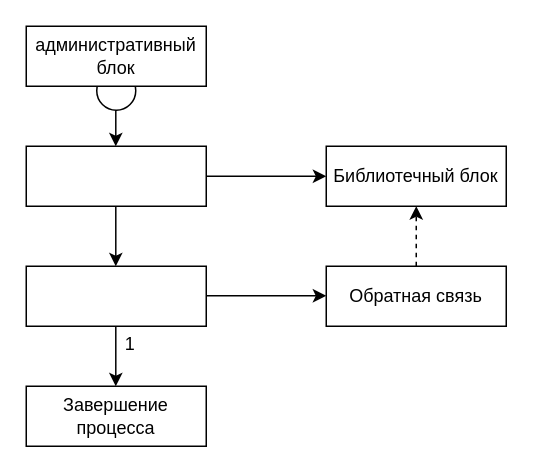
This 533x473 diagram has some shape labels left out. Here are the shapes that lost their labels. From the top down, the centre of each, then its label:
the point at 115,175: технический блок
the point at 115,295: Пользовательский блок
